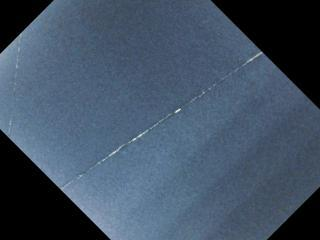crack: (55, 53, 265, 190), (3, 31, 28, 139)
